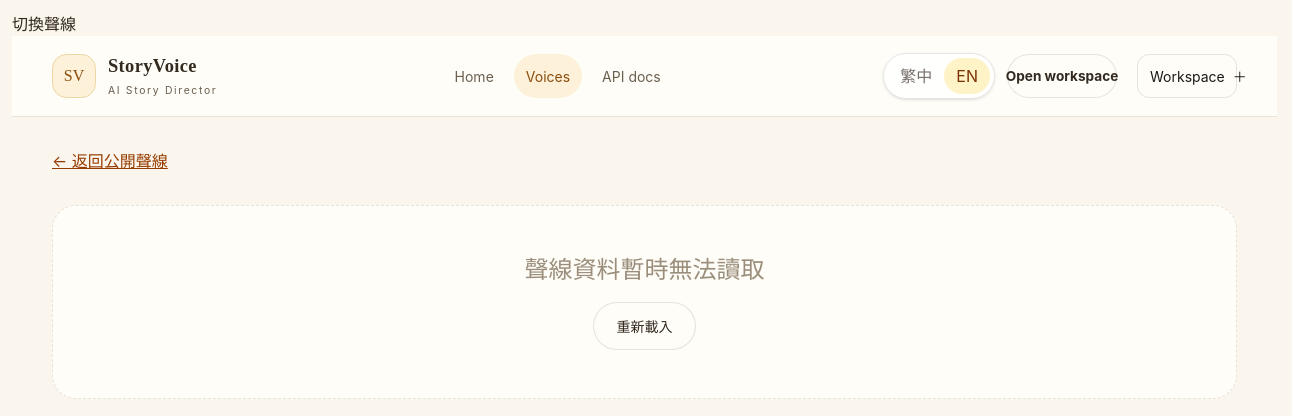
Scenario: hides withdrawn voices and retries a transient read error without showing private diagnostics
The image size is (1292, 416).
Check: the message "聲線資料暫時無法讀取 重新載入" is shown, box [52,205,1237,399]
What coordinates should you click on to do the following:
click the button "重新載入"
I would click on:
 (644, 326)
Its box is [593,302,696,350].
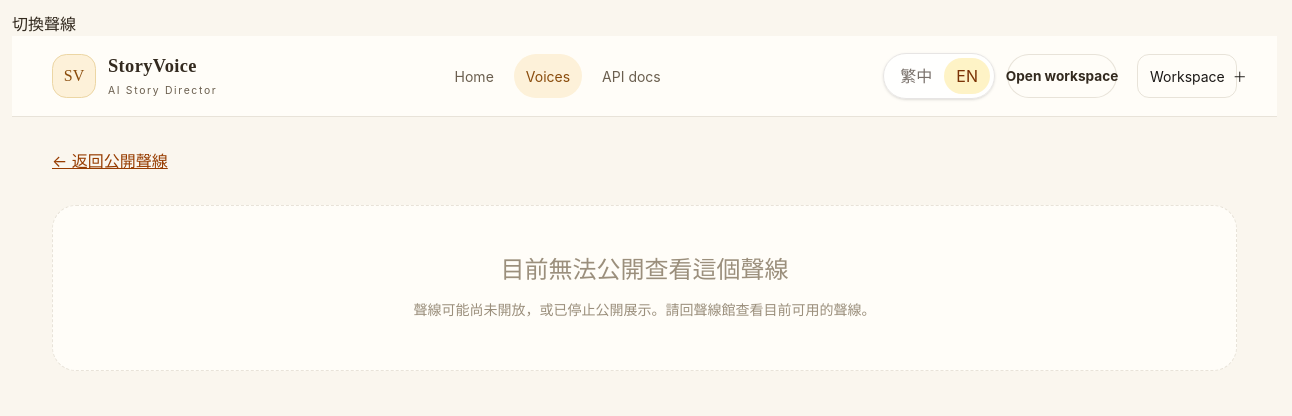
Check: the heading "目前無法公開查看這個聲線" is shown, box [500,254,788,286]
